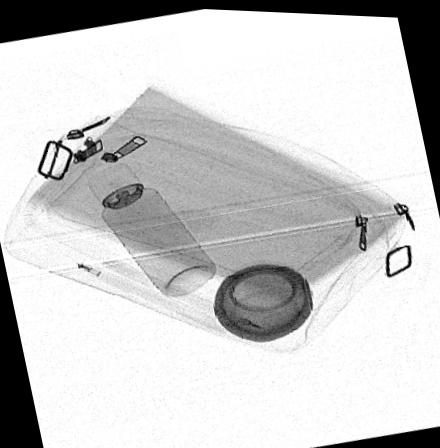Sprayer: (84, 161, 214, 293)
